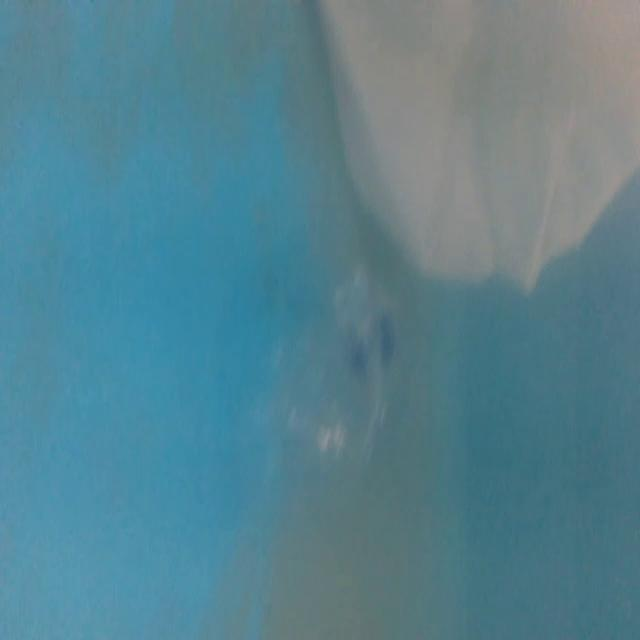plastic bags: (316, 3, 640, 290)
